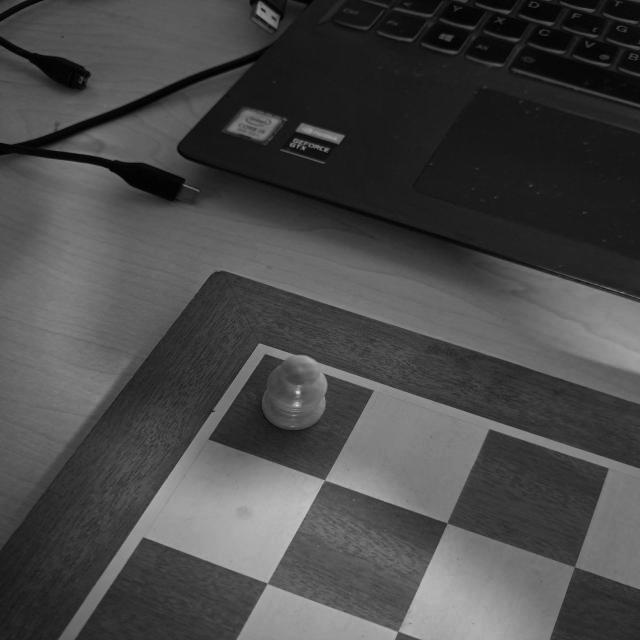chess-table-corners: (224, 331, 310, 380)
